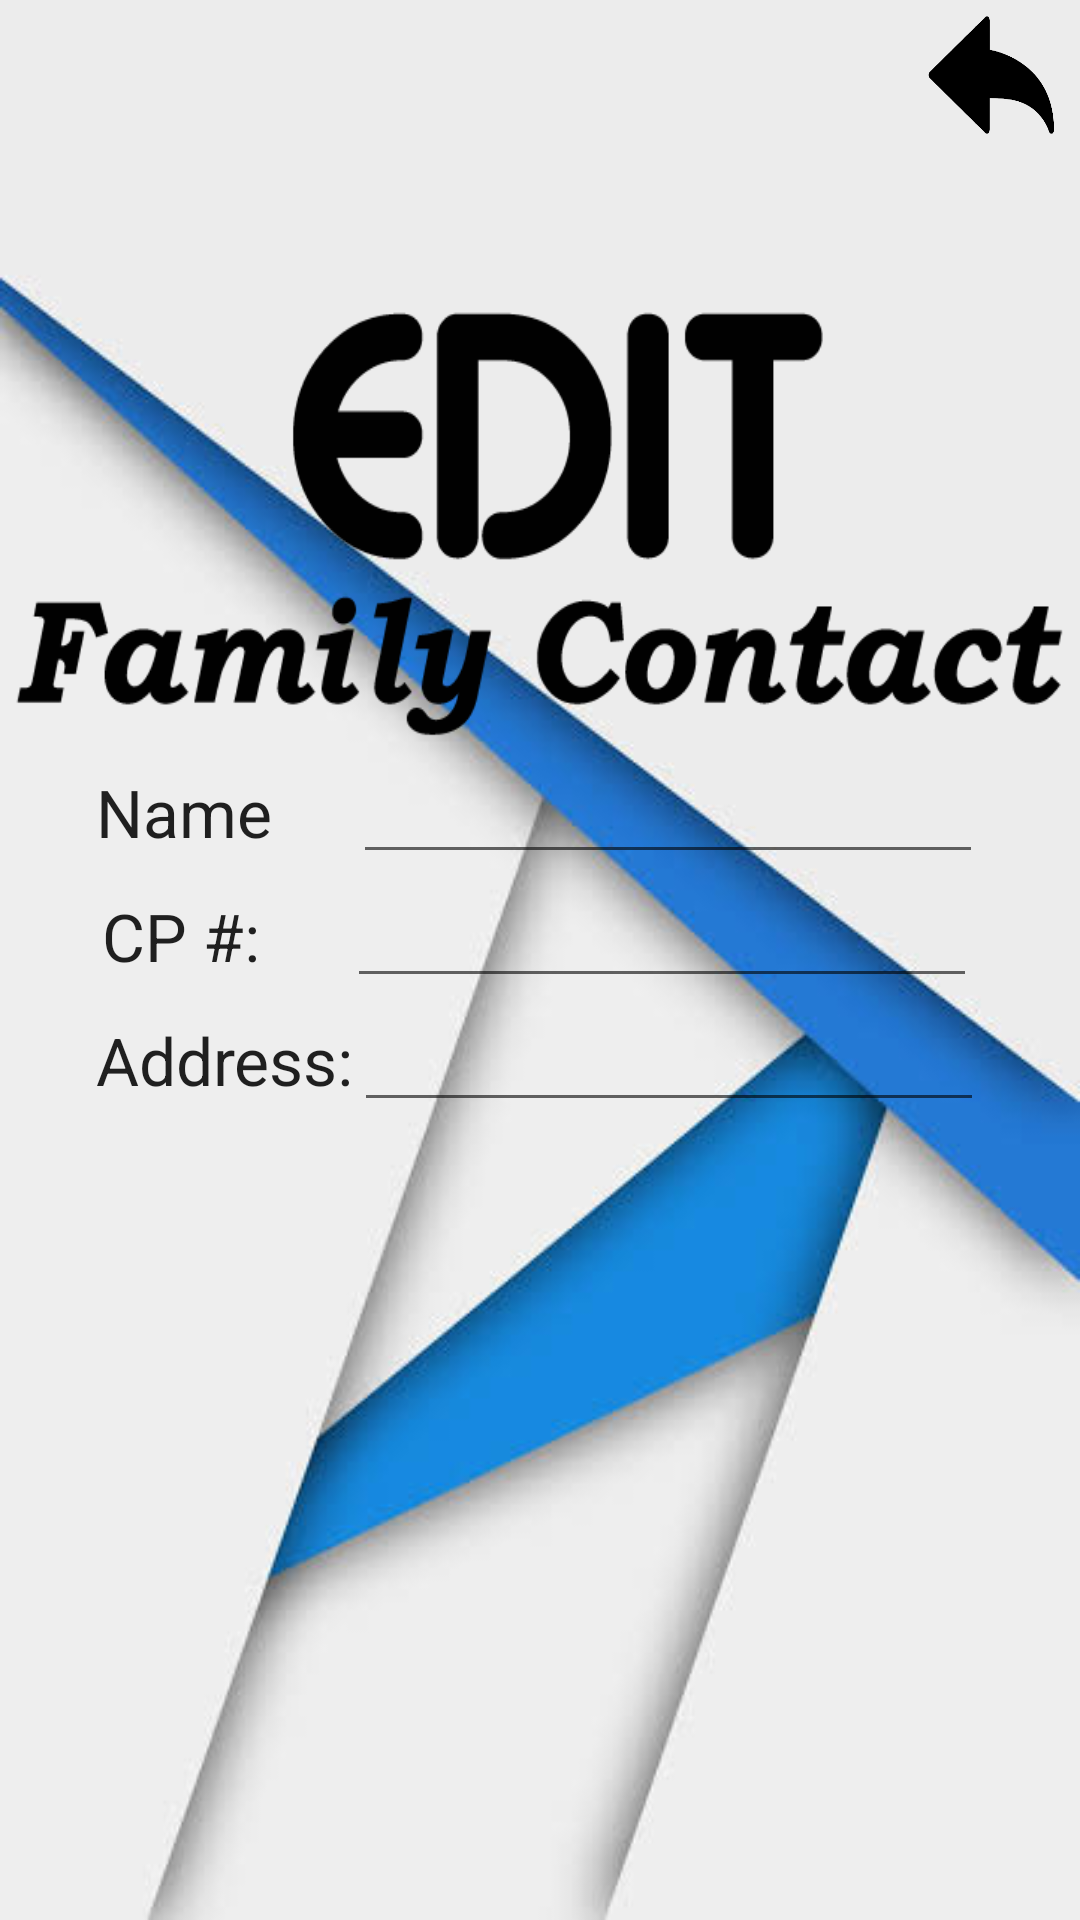

Screen size 1080*1920. Icon name, then its box in pixels as (x1, y1, x2, y2):
back arrow: (928, 16, 1054, 134)
